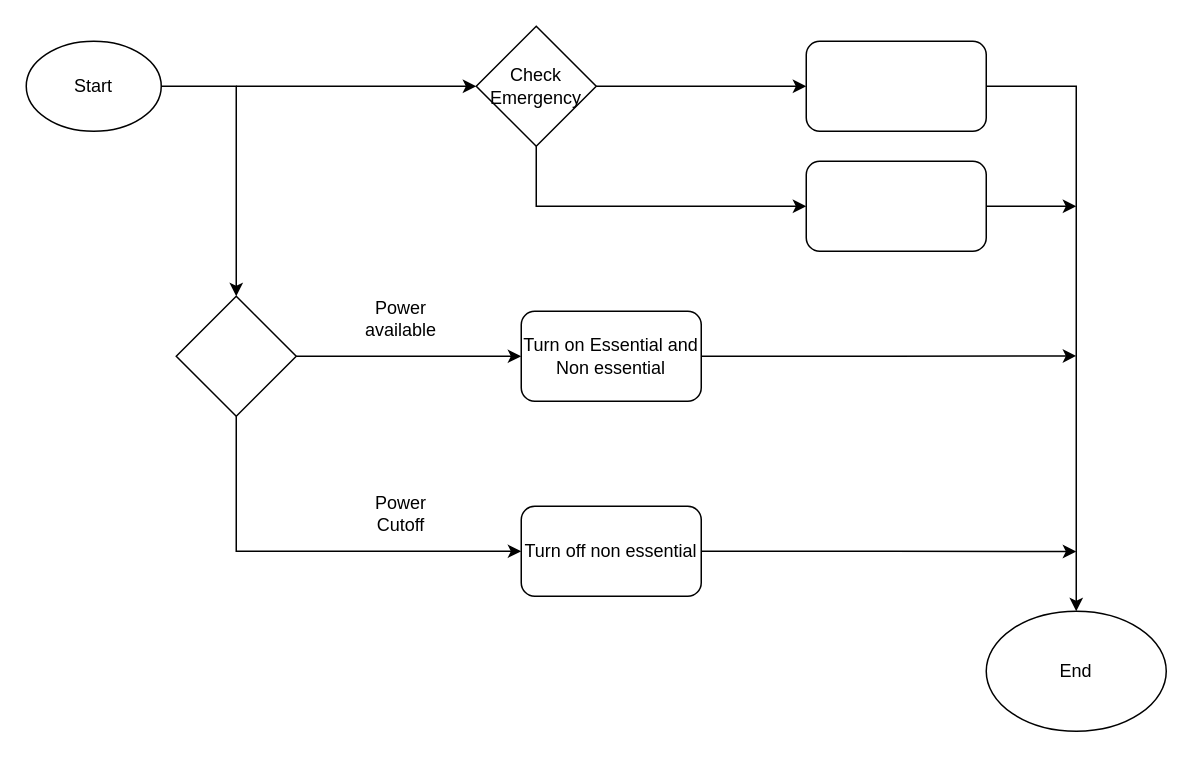
Some shapes in this 1193 by 758 pixel diagram are drawn without their labels. Here are the shapes that lost their labels. From the top down, the centre of each, then its label:
At pixel 895 85: "Turn on emergency power".
At pixel 895 205: "Turn off emergency power".
At pixel 235 355: "Check power status".
